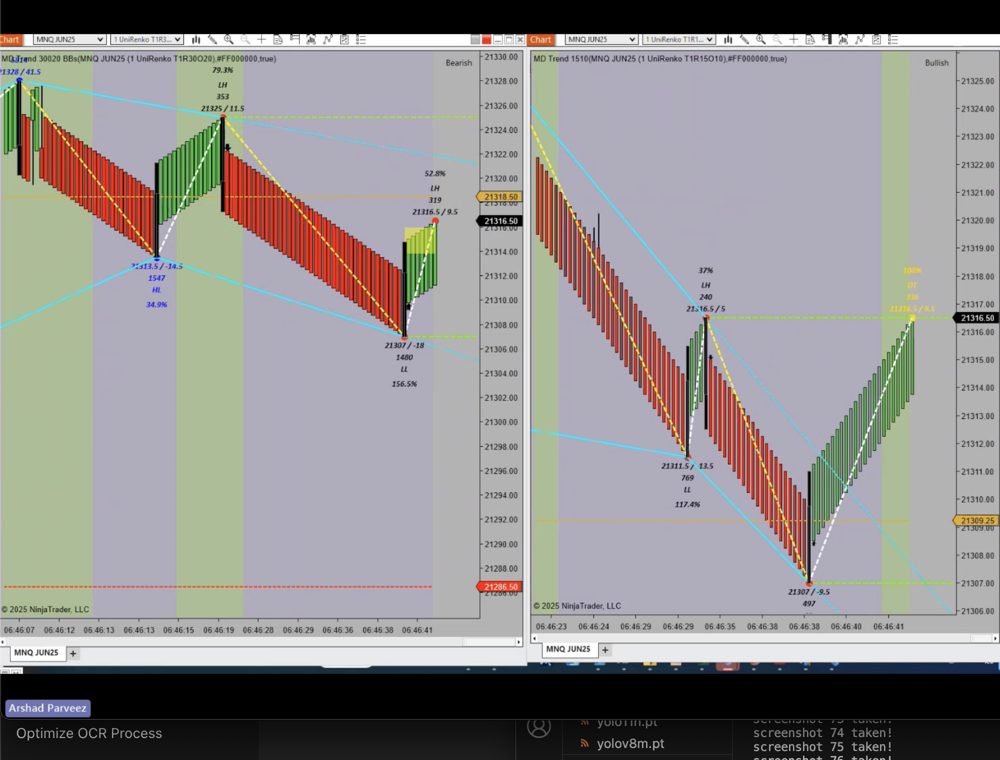HL: (147, 284, 167, 296)
LH: (426, 180, 449, 195), (211, 79, 237, 92), (696, 276, 717, 292)
LL: (677, 483, 701, 499), (395, 360, 416, 377)
